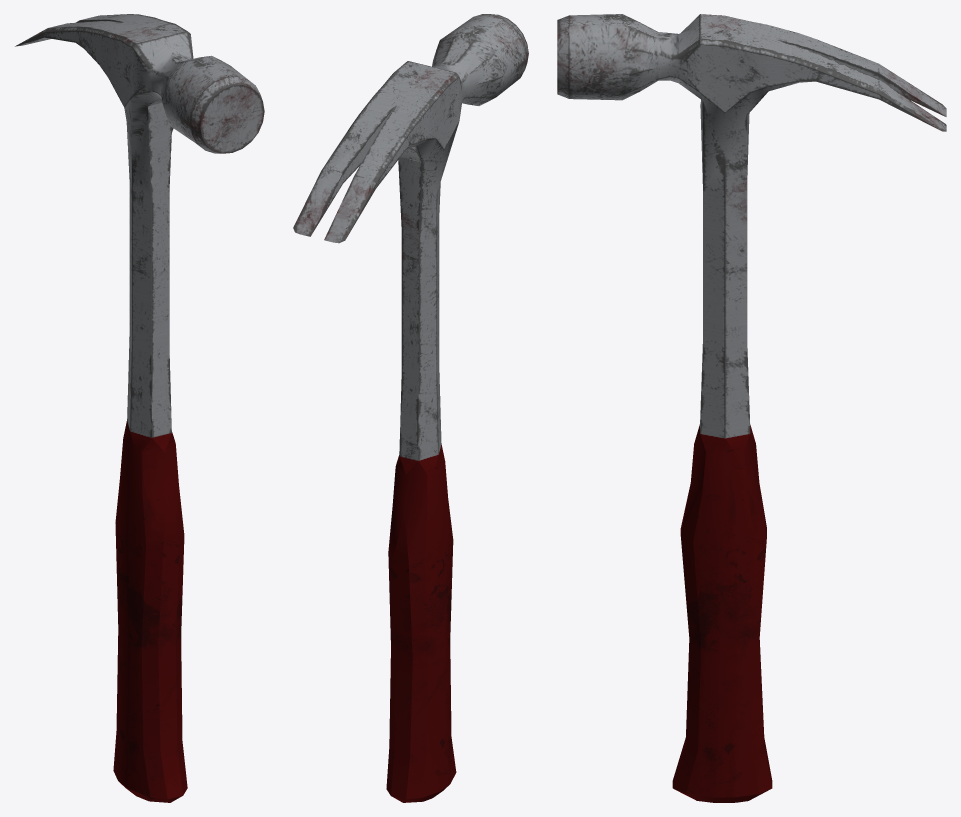
Rendered from claw_hammer.glb.
3 views of the same model, side by side, from view 1: azimuth 30°, elevation 25°; view 2: azimuth 150°, elevation 25°; view 3: azimuth 270°, elevation 25° (orthographic). The views are drawn at different scales.
Visible parts, largest first — view 1: pCylinder1; view 2: pCylinder1; view 3: pCylinder1.
Boxes of the visible parts, bbox=[...] form: pCylinder1: bbox=[15, 14, 264, 802]; pCylinder1: bbox=[293, 14, 528, 802]; pCylinder1: bbox=[557, 14, 946, 802].
Bounding box in the file's own units: 0.0183 × 0.18 × 0.082.
Materials: 1 (1 with a texture image).
